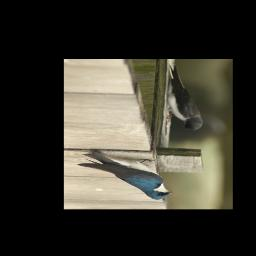Swallow: (77, 151, 173, 200)
